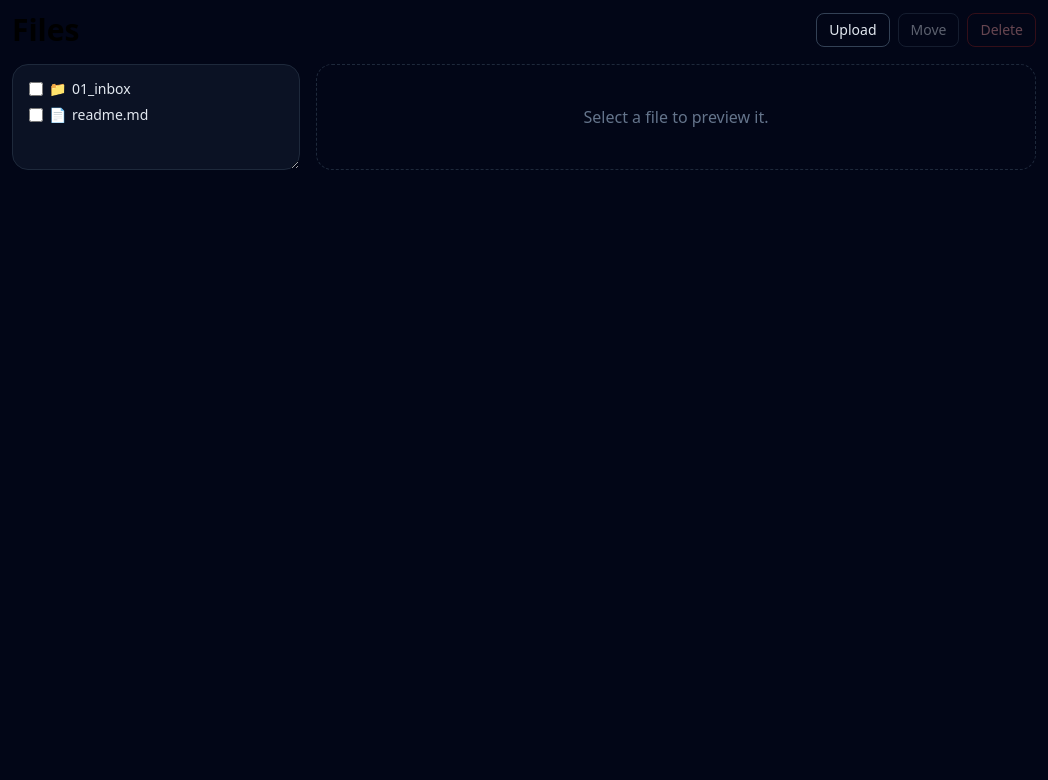
Test: Files page › save sends expected_mtime and 409 shows conflict banner with actions
Click the text "readme.md": point(110, 115) [72,105,148,125]
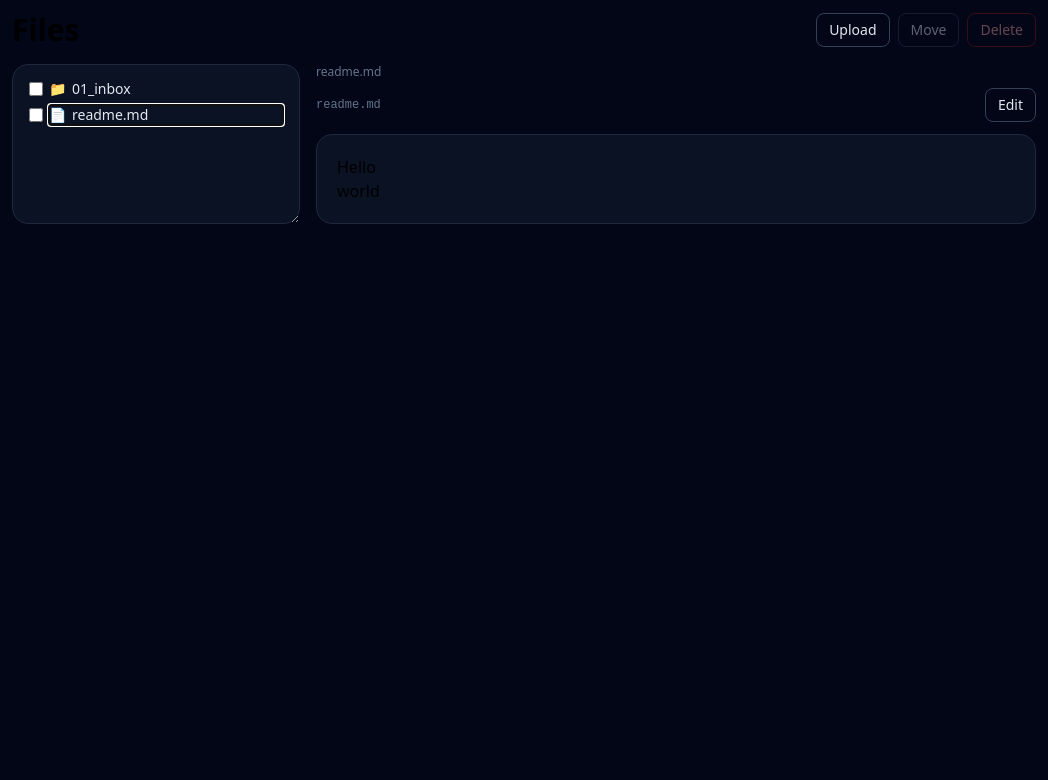
Click the button "Edit": point(1010, 105) [985,88,1036,122]
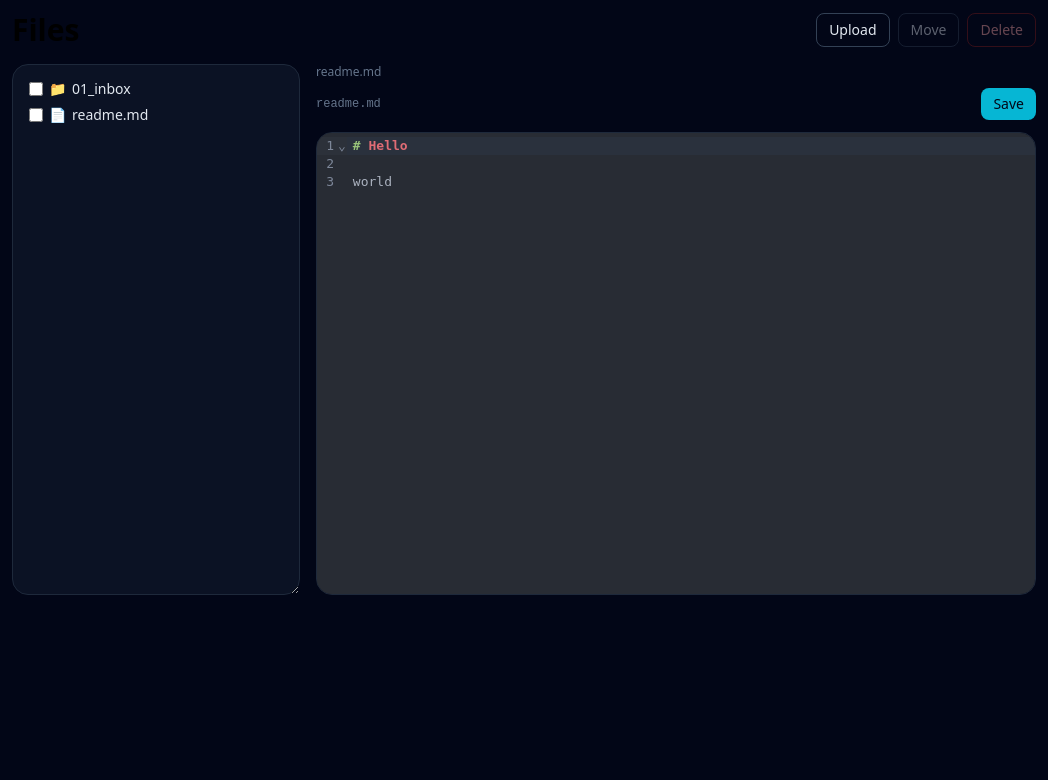
Click the button "Save": point(1009, 104) [981,88,1036,120]
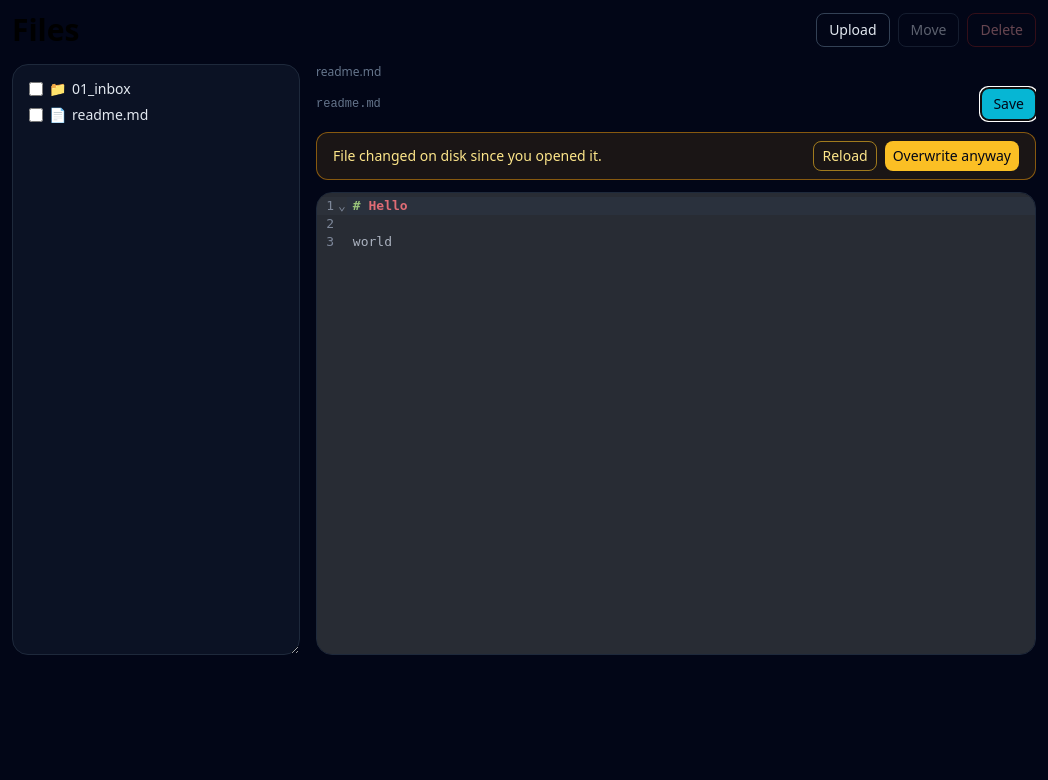
Now the element with test id "conflict-banner" is shown, box [316,132,1036,180]
Now the button "Reload" is shown, box [814,141,877,171]
Now the button "Overwrite anyway" is shown, box [885,141,1019,171]
